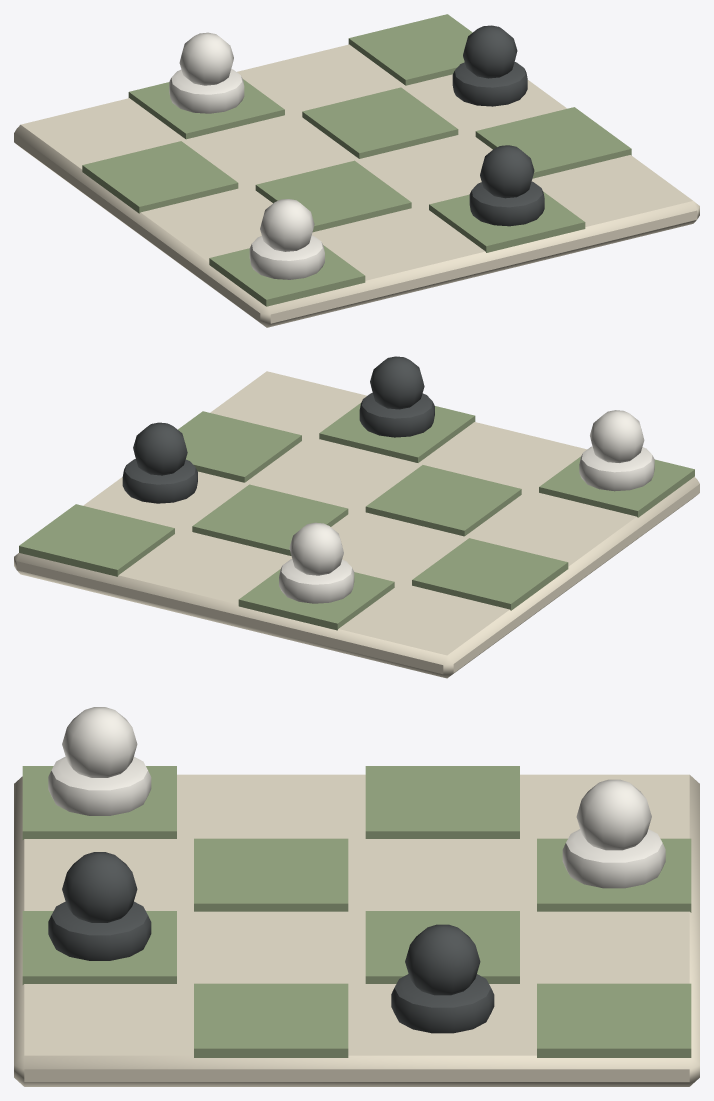
Rendered from chess_board.glb.
3 renders of one model, top to bottom at view 1: azimuth 30°, elevation 25°; view 2: azimuth 150°, elevation 25°; view 3: azimuth 270°, elevation 25°, orthographic. The views are drawn at different scales.
Visible parts, largest first — view 1: cream, book_c, rubber, sheet; view 2: cream, book_c, sheet, rubber; view 3: cream, book_c, rubber, sheet.
Part boxes in pixels (<box>): cream: <box>14,44,699,327</box>; book_c: <box>82,14,631,306</box>; rubber: <box>452,25,544,226</box>; sheet: <box>169,32,324,279</box>; cream: <box>14,371,699,678</box>; book_c: <box>19,403,694,630</box>; sheet: <box>279,410,654,603</box>; rubber: <box>122,356,434,503</box>; cream: <box>14,774,699,1086</box>; book_c: <box>22,766,691,1057</box>; rubber: <box>48,852,494,1033</box>; sheet: <box>48,707,665,888</box>.
Size of the model in its own units: 0.4 by 0.082 by 0.4.
